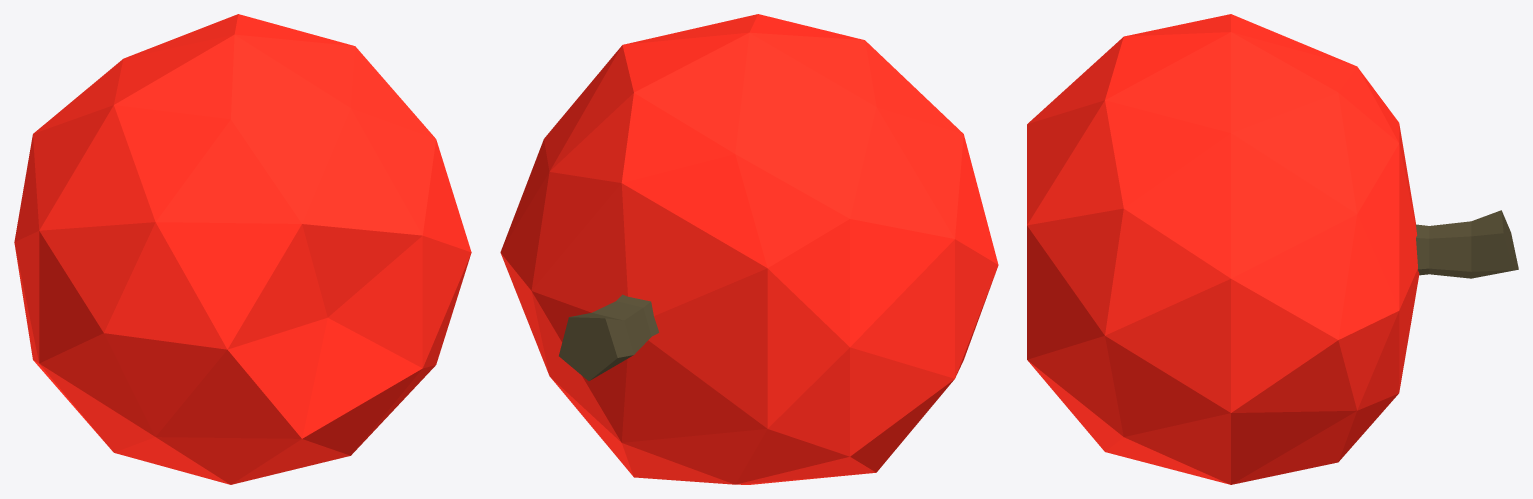
The model's file is Fruit.fbx.
The picture shows the model from 3 angles, left to right: view 1: azimuth 30°, elevation 25°; view 2: azimuth 150°, elevation 25°; view 3: azimuth 270°, elevation 25°; orthographic projection. The views are drawn at different scales.
Visible parts, largest first — view 1: Fruit; view 2: Fruit; view 3: Fruit.
Part boxes in pixels (left/top/right/bottom): Fruit: left=14, top=14, right=471, bottom=484; Fruit: left=500, top=14, right=998, bottom=484; Fruit: left=1027, top=14, right=1518, bottom=484.
Bounding box in the file's own units: 43.45 × 45.69 × 46.84.
